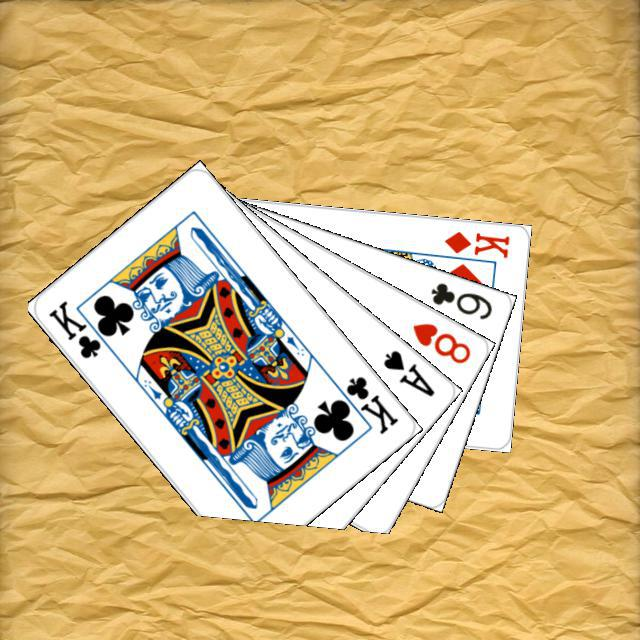6c: (425, 277, 494, 321)
8h: (407, 317, 473, 366)
As: (378, 345, 437, 399)
Kc: (328, 371, 401, 436), (43, 295, 116, 360)
Kd: (439, 226, 511, 260)
